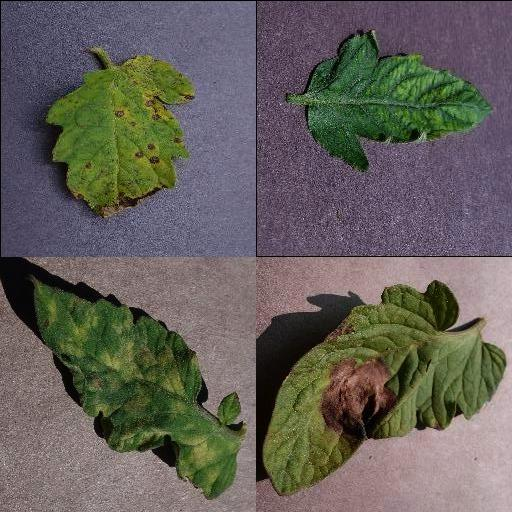Late Blight: (262, 279, 508, 495)
Leaf Mold: (27, 274, 243, 497)
Mosaic Virus: (305, 29, 497, 171)
Septoria: (45, 55, 192, 219)
